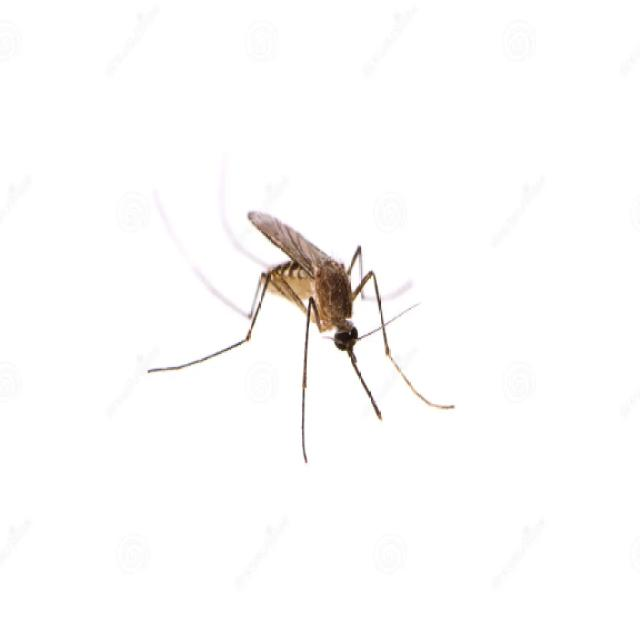Mosquito: (143, 138, 461, 473)
